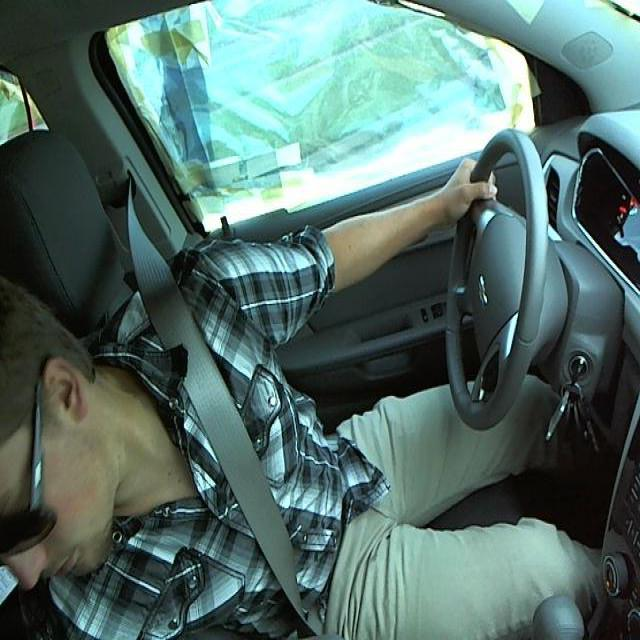seatbelt: (169, 361, 346, 639)
